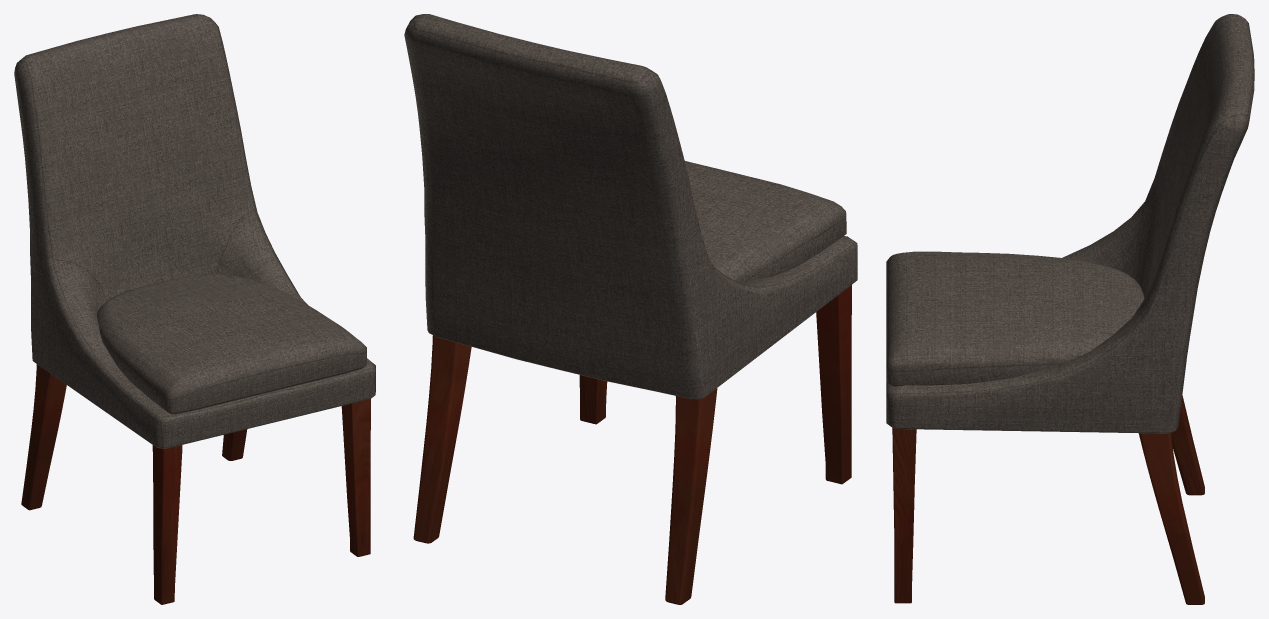
File: dining_chair_abo_B07B7BFP97.glb
3 renders of one model, left to right at view 1: azimuth 30°, elevation 25°; view 2: azimuth 150°, elevation 25°; view 3: azimuth 270°, elevation 25°, orthographic. The views are drawn at different scales.
Visible parts, largest first — view 1: RootNode; view 2: RootNode; view 3: RootNode.
Part boxes in pixels (x1,y1,x2,y2): RootNode: [14, 14, 375, 604]; RootNode: [404, 14, 857, 604]; RootNode: [886, 14, 1254, 604].
Size of the model in its own units: 0.5077 by 0.9523 by 0.6548.
Materials: 1 (1 with a texture image).
